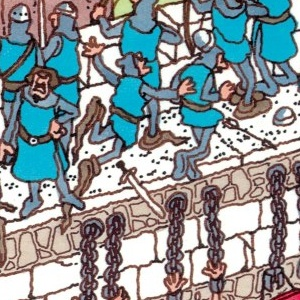Wenda: (142, 136, 158, 164)
